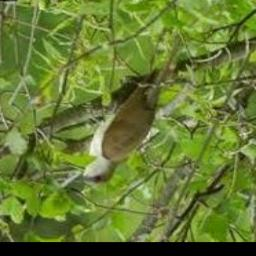Cuckoo: (80, 37, 180, 186)
